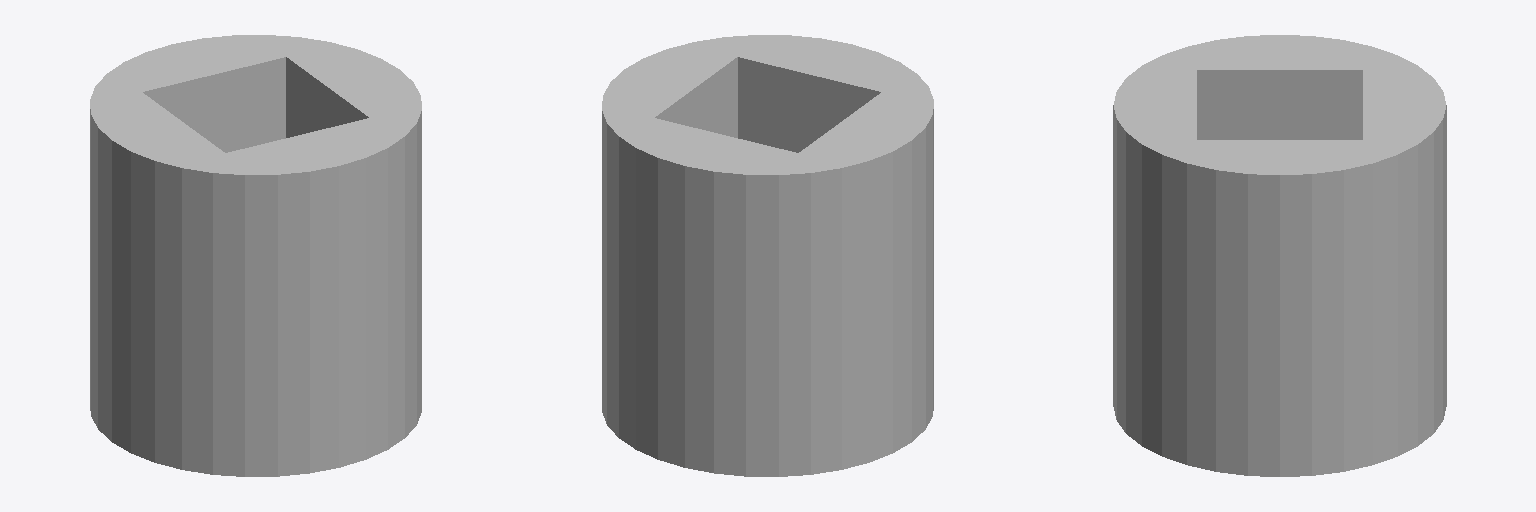
File: module.obj
3 views of the same model, side by side, from view 1: azimuth 30°, elevation 25°; view 2: azimuth 150°, elevation 25°; view 3: azimuth 270°, elevation 25° (orthographic).
Parts seen in each view (by area): view 1: Cube_Cube.002; view 2: Cube_Cube.002; view 3: Cube_Cube.002.
Boxes of the visible parts, box(x1,y1,x2,y2) form: Cube_Cube.002: box(90, 35, 421, 476); Cube_Cube.002: box(602, 35, 933, 476); Cube_Cube.002: box(1113, 35, 1446, 476).
Bounding box in the file's own units: 1 × 1 × 1.